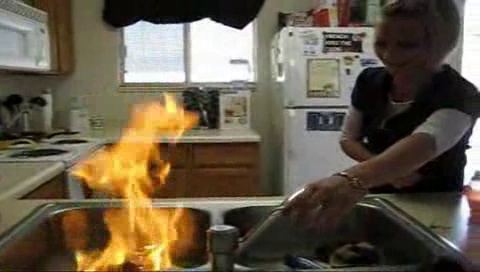fire: (80, 96, 198, 270)
